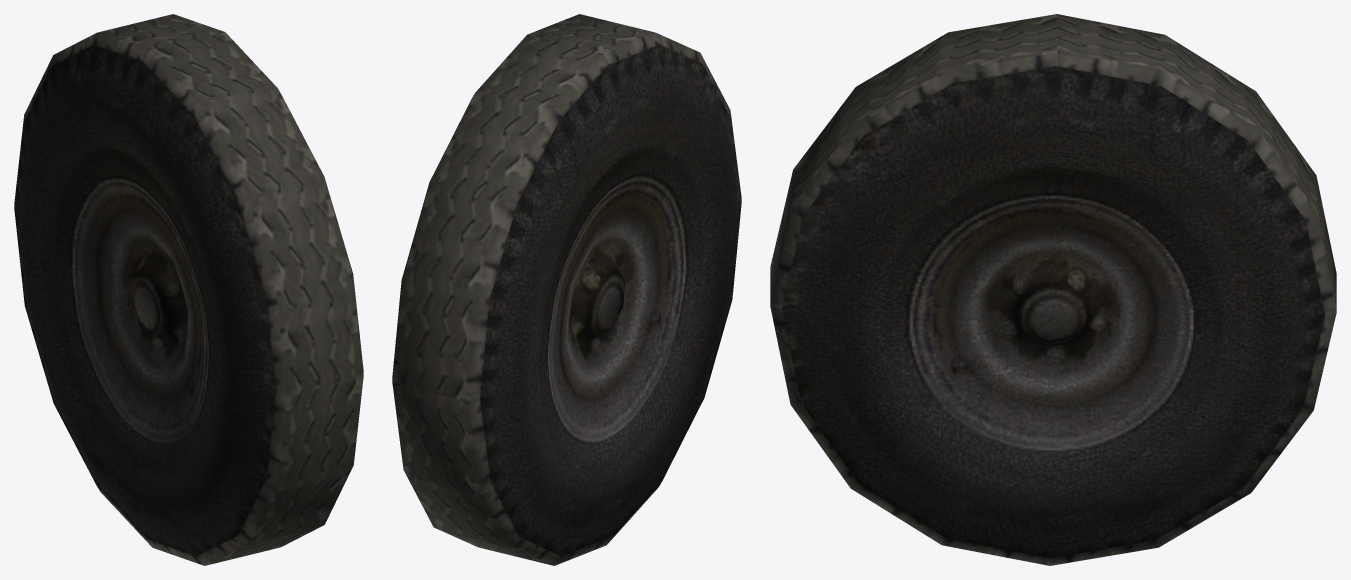
The model's file is truck_wheel.obj.
The picture shows the model from 3 angles, left to right: view 1: azimuth 30°, elevation 25°; view 2: azimuth 150°, elevation 25°; view 3: azimuth 270°, elevation 25°; orthographic projection. The views are drawn at different scales.
Visible parts, largest first — view 1: Jeep.005; view 2: Jeep.005; view 3: Jeep.005.
Boxes of the visible parts, left/top/right/bottom form: Jeep.005: left=14, top=14, right=363, bottom=565; Jeep.005: left=392, top=14, right=741, bottom=565; Jeep.005: left=770, top=14, right=1336, bottom=565.
Bounding box in the file's own units: 0.5 × 2 × 2.
1 material, 1 textured.
